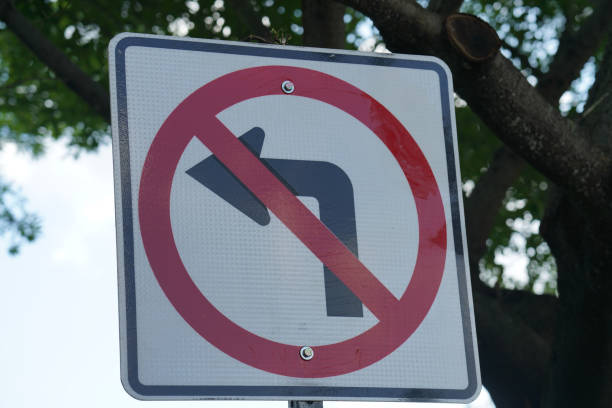sola_girilmez: (140, 65, 451, 374)
